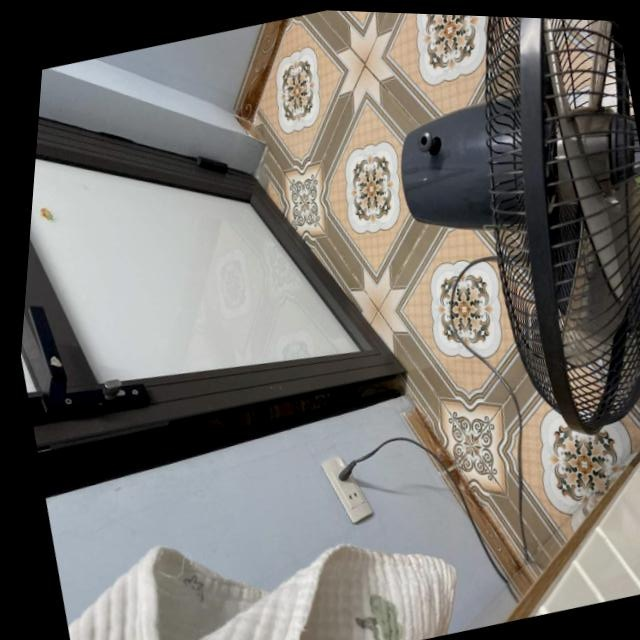outlet: (313, 450, 379, 532)
